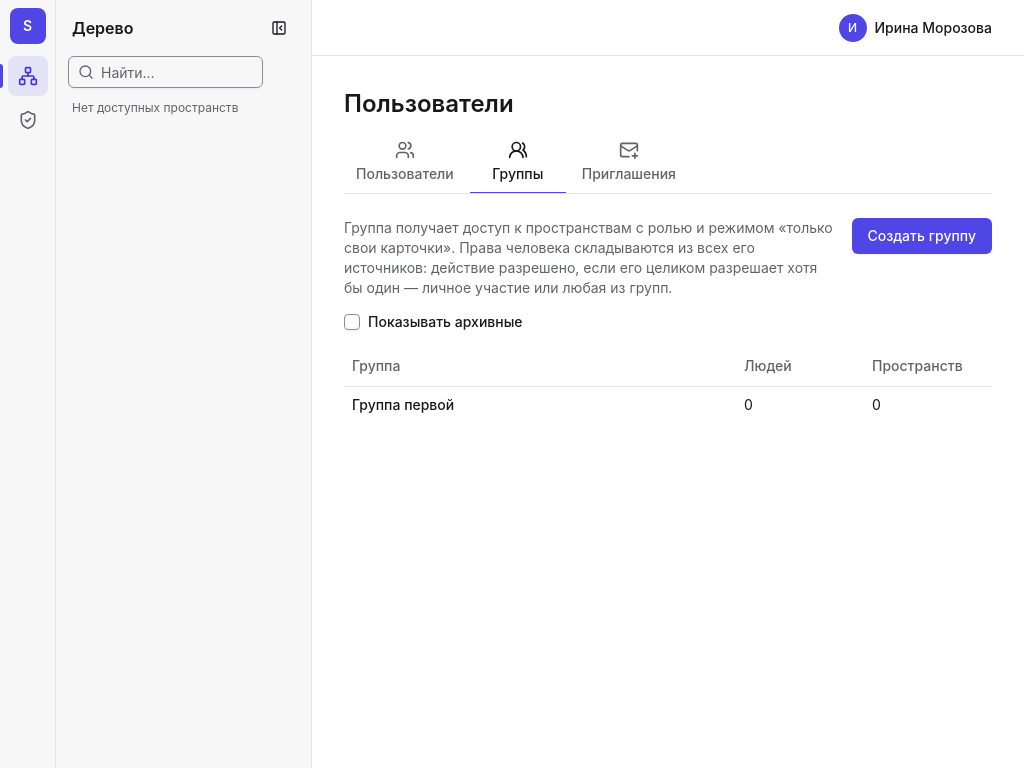
Scenario: Админка нескольких компаний › выбор компании — у администратора нескольких: тот же раздел другой компании, ключи кеша с компанией
Expected: the link "Группа первой" is shown, [352, 394, 454, 414]
What coordinates should you click on to do the following:
click the button named "Администрирование"
I would click on:
 (28, 120)
Its box is [8, 100, 48, 140].
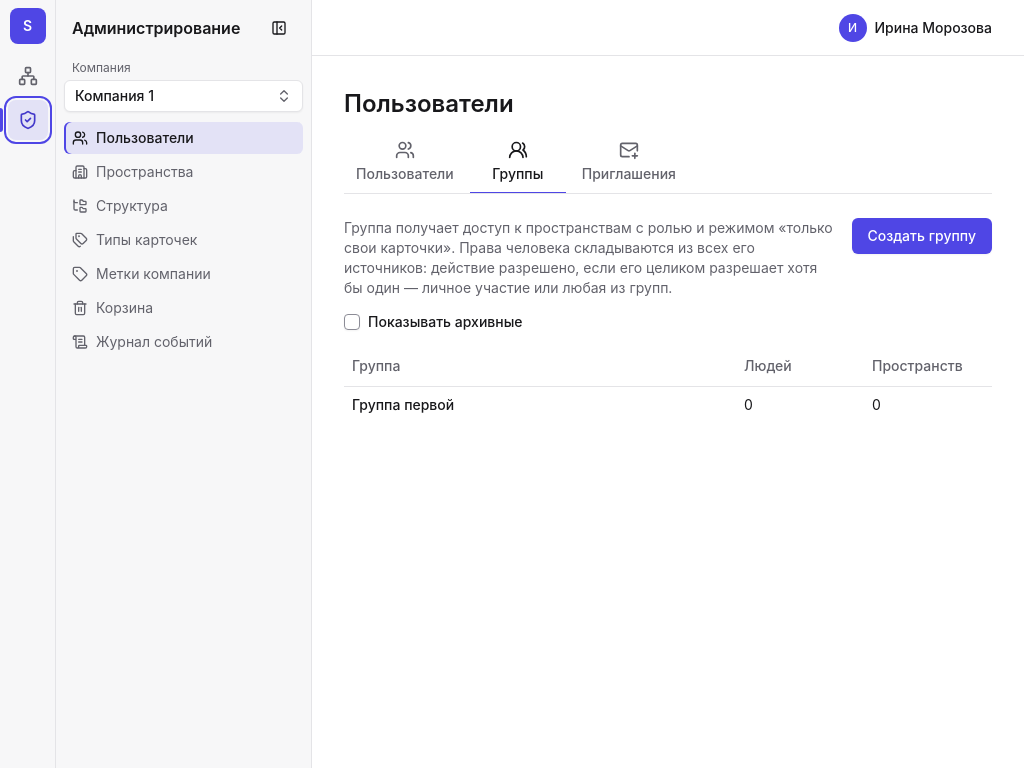
What coordinates should you click on to do the following:
click the button with aria-label "Компания: Компания 1"
I would click on:
 (184, 96)
Its box is [64, 80, 303, 112].
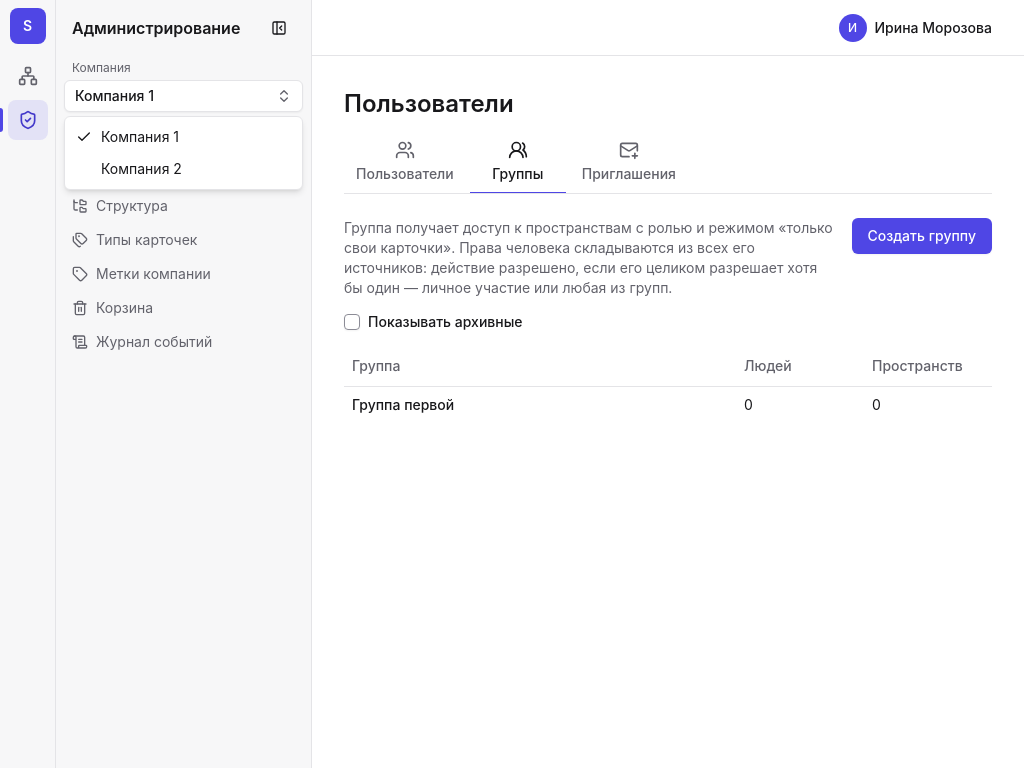
What coordinates should you click on to do the following:
click the menu item "Компания 2"
I would click on:
 (141, 168)
Its box is [101, 160, 182, 177].
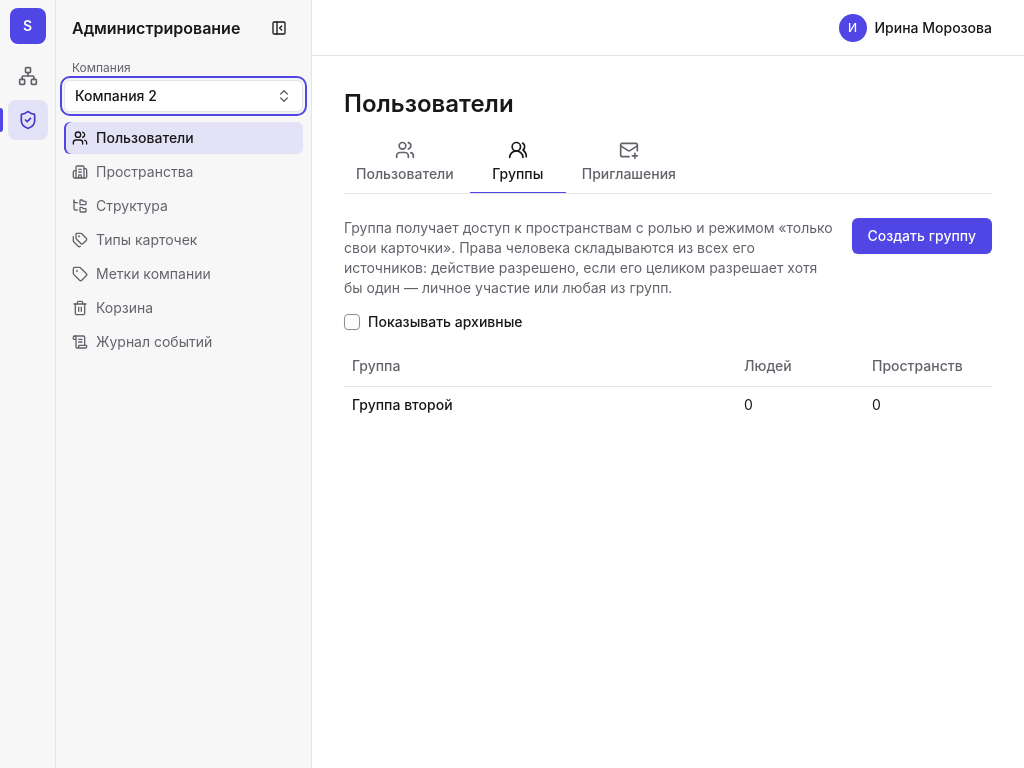
Now the link "Группа второй" is shown, box [352, 394, 453, 414]
Now the link "Группа первой" is gone
